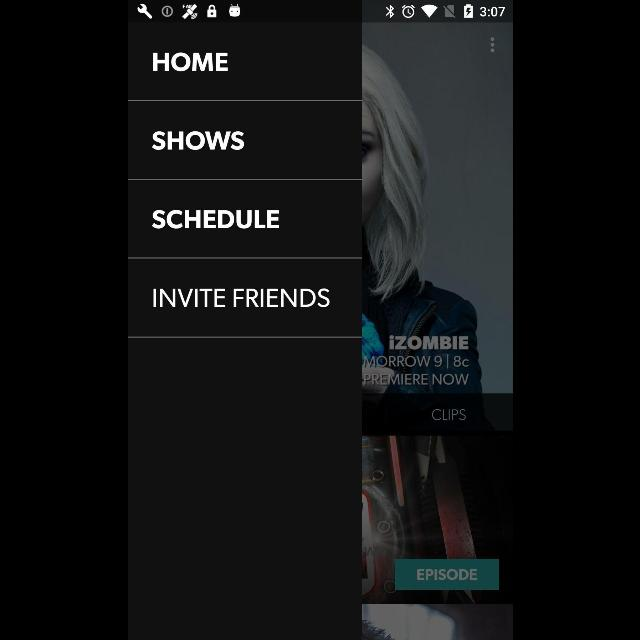panel: (127, 22, 361, 640)
text: (153, 288, 329, 308), (150, 210, 280, 228), (150, 132, 244, 150), (152, 52, 228, 72)
uppertaskbar: (128, 1, 512, 23)
